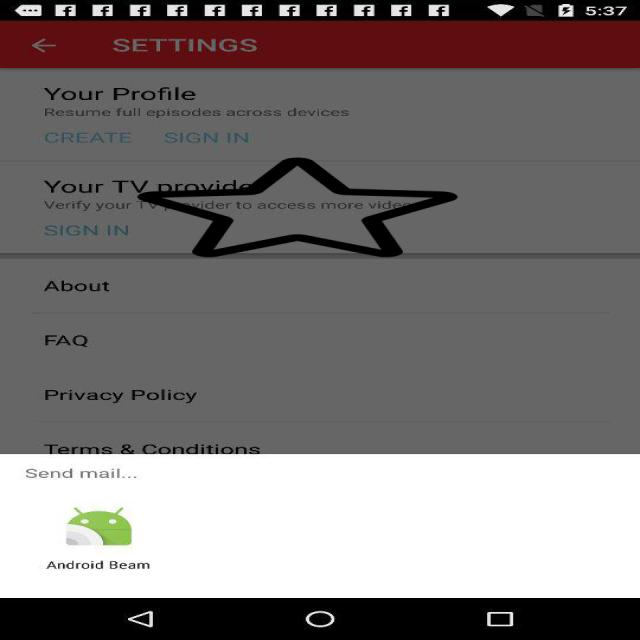forced continuity: (138, 156, 458, 260)
